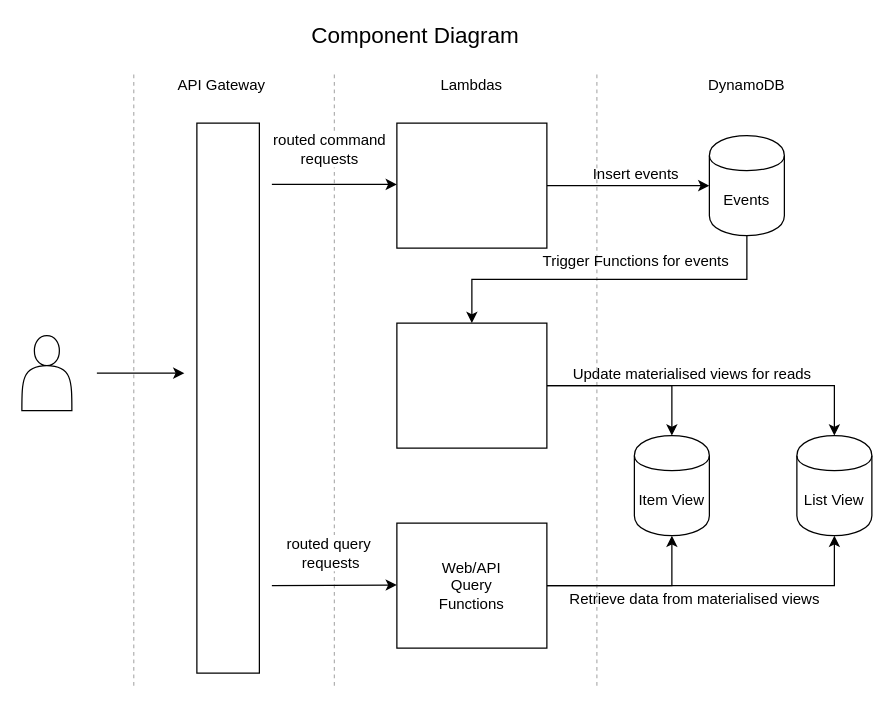
This 894x709 diagram has some shape labels left out. Here are the shapes that lost their labels. From the top down, the centre of each, then its label:
At pixel 471 185: "Web/API Command Functions".
At pixel 471 385: "Event processor Functions".
